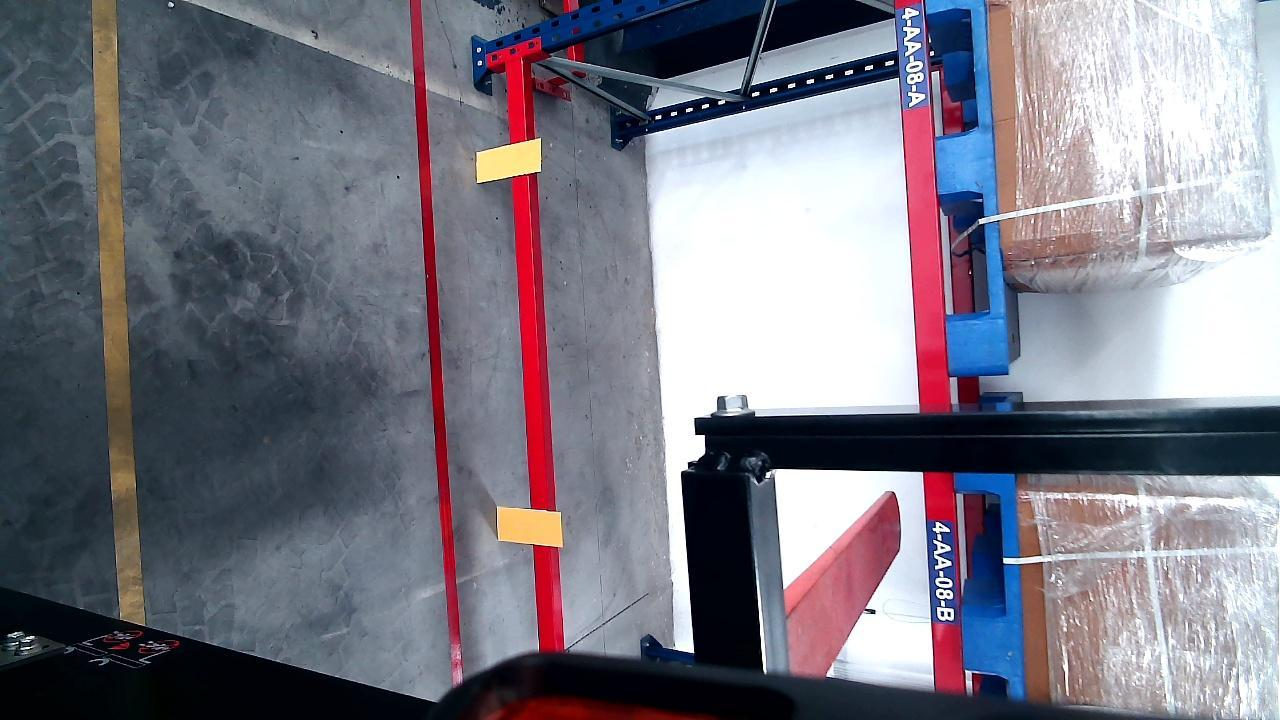red_line: (411, 2, 459, 688)
yellow_line: (90, 0, 146, 628)
